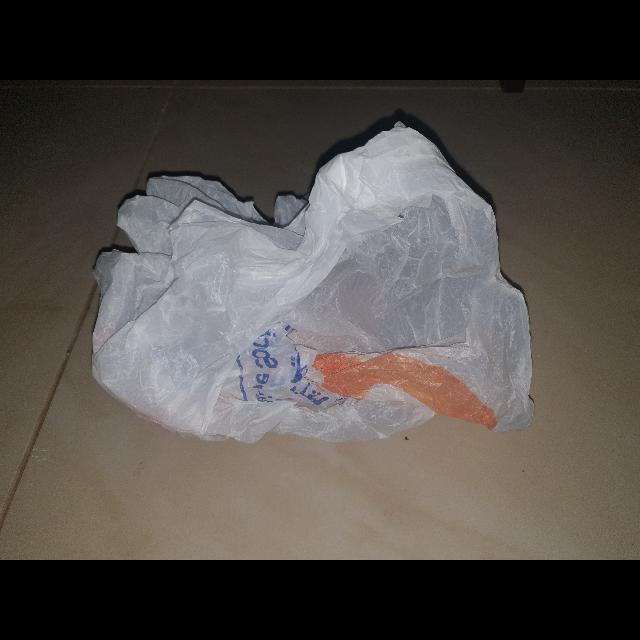plastic_bag: (83, 112, 547, 454)
